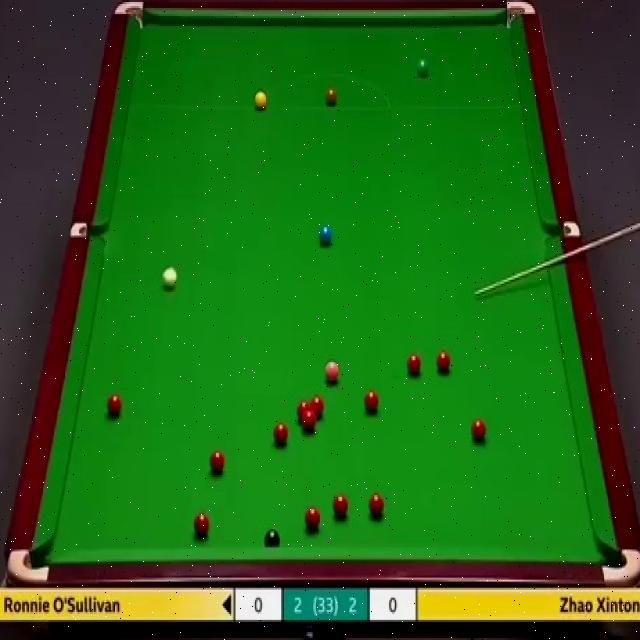black-ball: (264, 530, 280, 546)
blue-ball: (318, 224, 331, 246)
brown-ball: (324, 87, 338, 107)
green-ball: (418, 56, 428, 76)
pink-ball: (323, 355, 338, 379)
red-ball: (208, 449, 227, 474), (193, 511, 210, 537), (332, 494, 349, 520), (270, 418, 286, 445), (469, 416, 486, 441), (304, 505, 320, 531), (302, 409, 317, 436), (308, 395, 325, 418), (436, 348, 450, 375), (369, 494, 385, 516), (106, 394, 122, 416), (365, 389, 379, 412), (407, 354, 422, 375), (298, 400, 311, 424)
white-ball: (162, 267, 176, 289)
yellow-ball: (252, 91, 268, 111)
